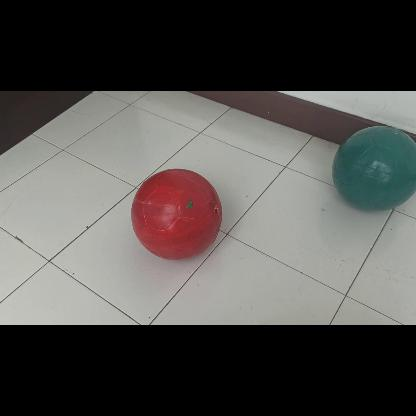red_ball: (130, 169, 220, 259)
